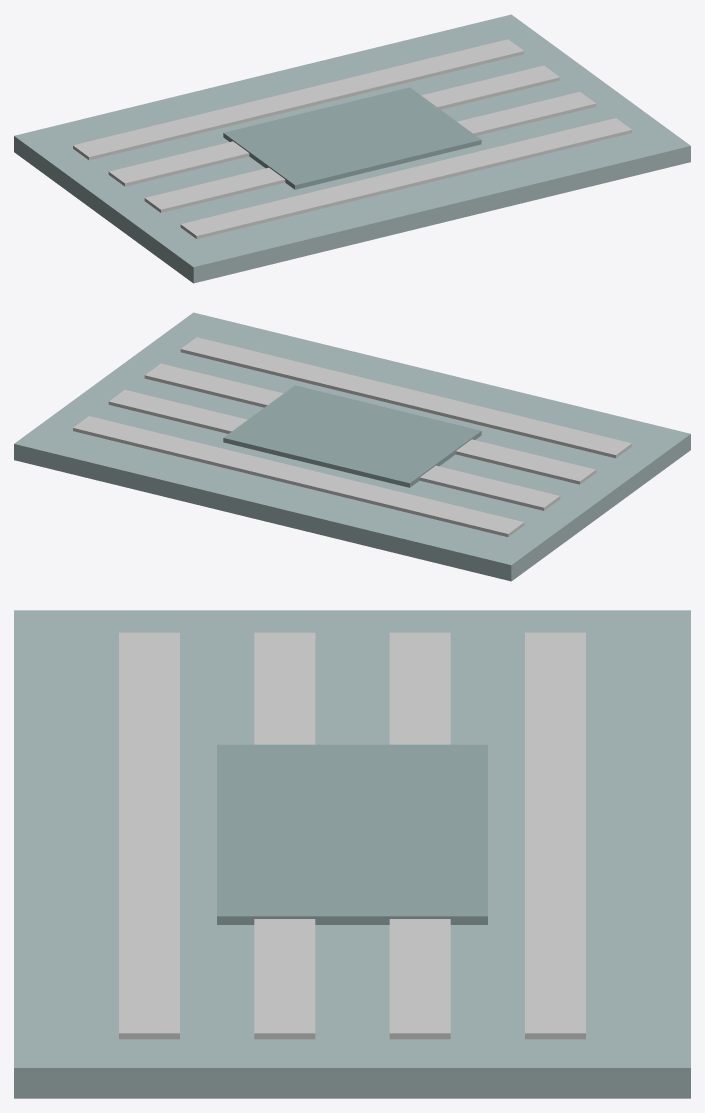
File: piso_tapete_banheiro.glb
3 views of the same model, one above another, from view 1: azimuth 30°, elevation 25°; view 2: azimuth 150°, elevation 25°; view 3: azimuth 270°, elevation 25° (orthographic). The views are drawn at different scales.
Visible parts, largest first — view 1: PISO_TAPETE_BANHEIRO_v01; view 2: PISO_TAPETE_BANHEIRO_v01; view 3: PISO_TAPETE_BANHEIRO_v01.
Part boxes in pixels (box(x1,y1,x2,y2)): PISO_TAPETE_BANHEIRO_v01: box(14, 14, 690, 283); PISO_TAPETE_BANHEIRO_v01: box(14, 312, 690, 581); PISO_TAPETE_BANHEIRO_v01: box(14, 610, 690, 1098).
Bounding box in the file's own units: 0.8 × 0.032 × 0.5.
